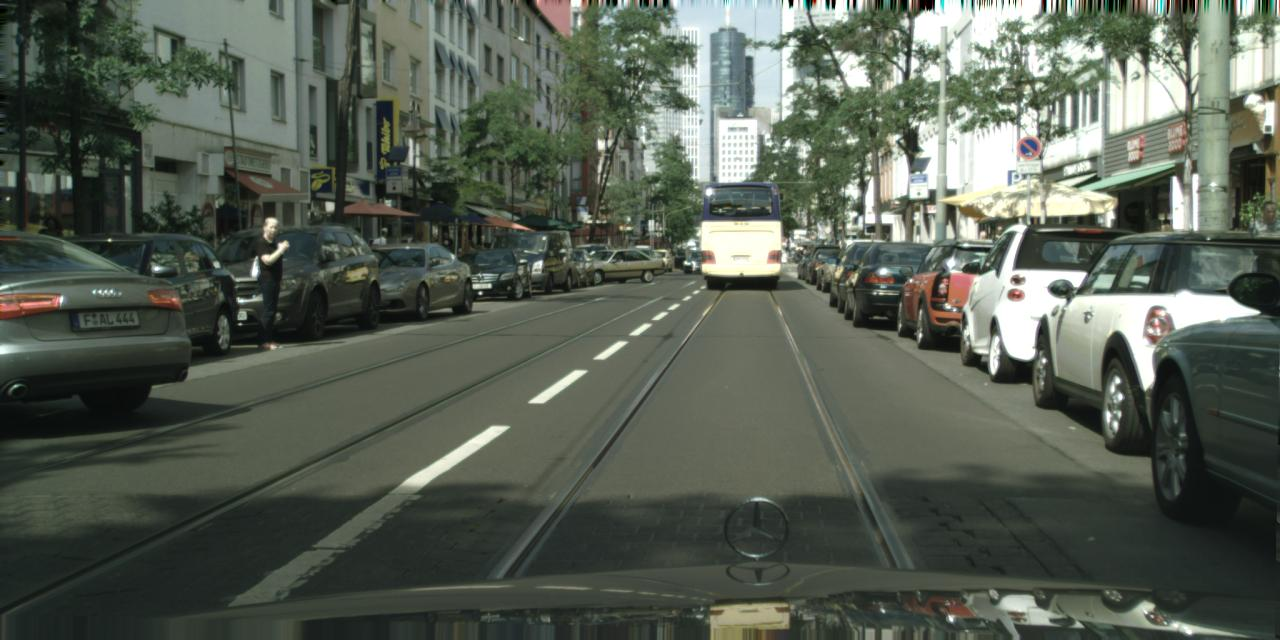ped: (243, 217, 297, 349), (1252, 201, 1278, 291), (41, 213, 67, 278), (972, 230, 992, 277), (423, 235, 442, 282), (348, 226, 367, 272), (373, 227, 391, 272), (990, 226, 1008, 270), (437, 231, 454, 275), (683, 245, 693, 269), (468, 240, 474, 250), (458, 247, 461, 257)
